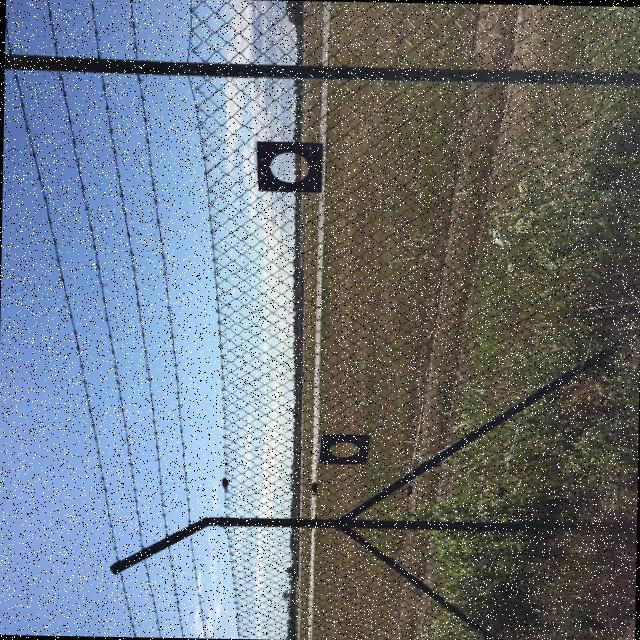fence line: (246, 128, 331, 197), (309, 426, 376, 467)
